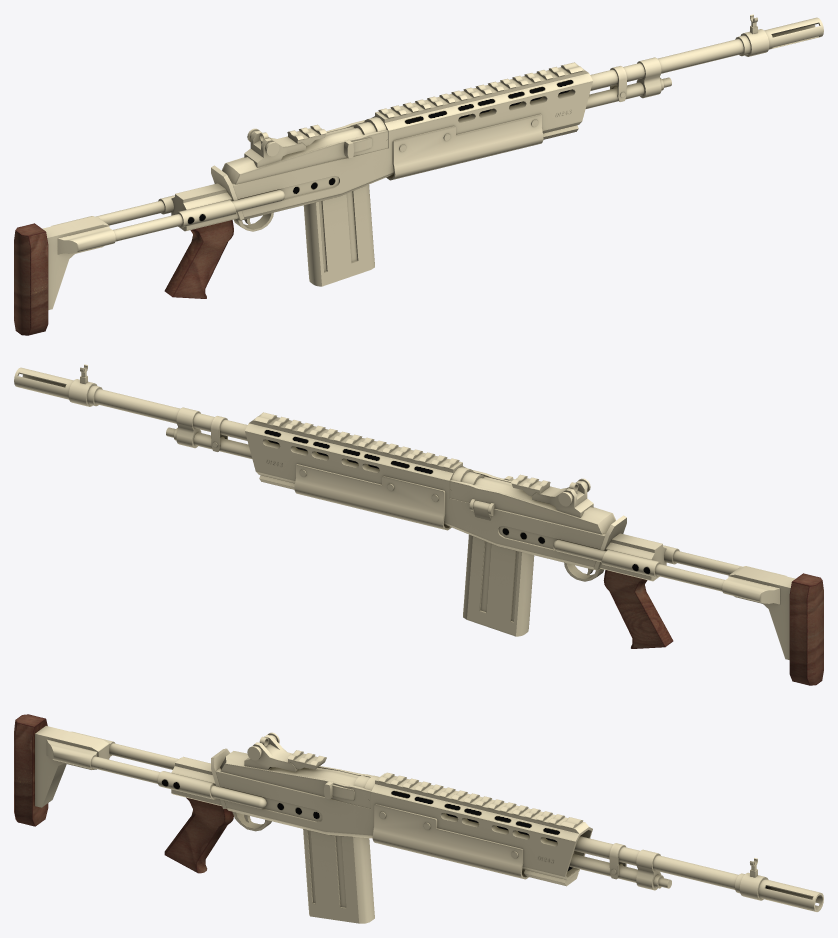
File: weapon_8_4.gltf
The picture shows the model from 3 angles, top to bottom: view 1: azimuth 30°, elevation 25°; view 2: azimuth 150°, elevation 25°; view 3: azimuth 330°, elevation 25°; orthographic projection.
Parts seen in each view (by area): view 1: Bolt_2.003_Cylinder.003; view 2: Bolt_2.003_Cylinder.003; view 3: Bolt_2.003_Cylinder.003.
Boxes of the visible parts, box(x1,y1,x2,y2) form: Bolt_2.003_Cylinder.003: box(14, 14, 823, 335); Bolt_2.003_Cylinder.003: box(14, 364, 823, 685); Bolt_2.003_Cylinder.003: box(14, 714, 823, 923).
Bounding box in the file's own units: 9948 × 1927 × 562.
Materials: 1 (1 with a texture image).
